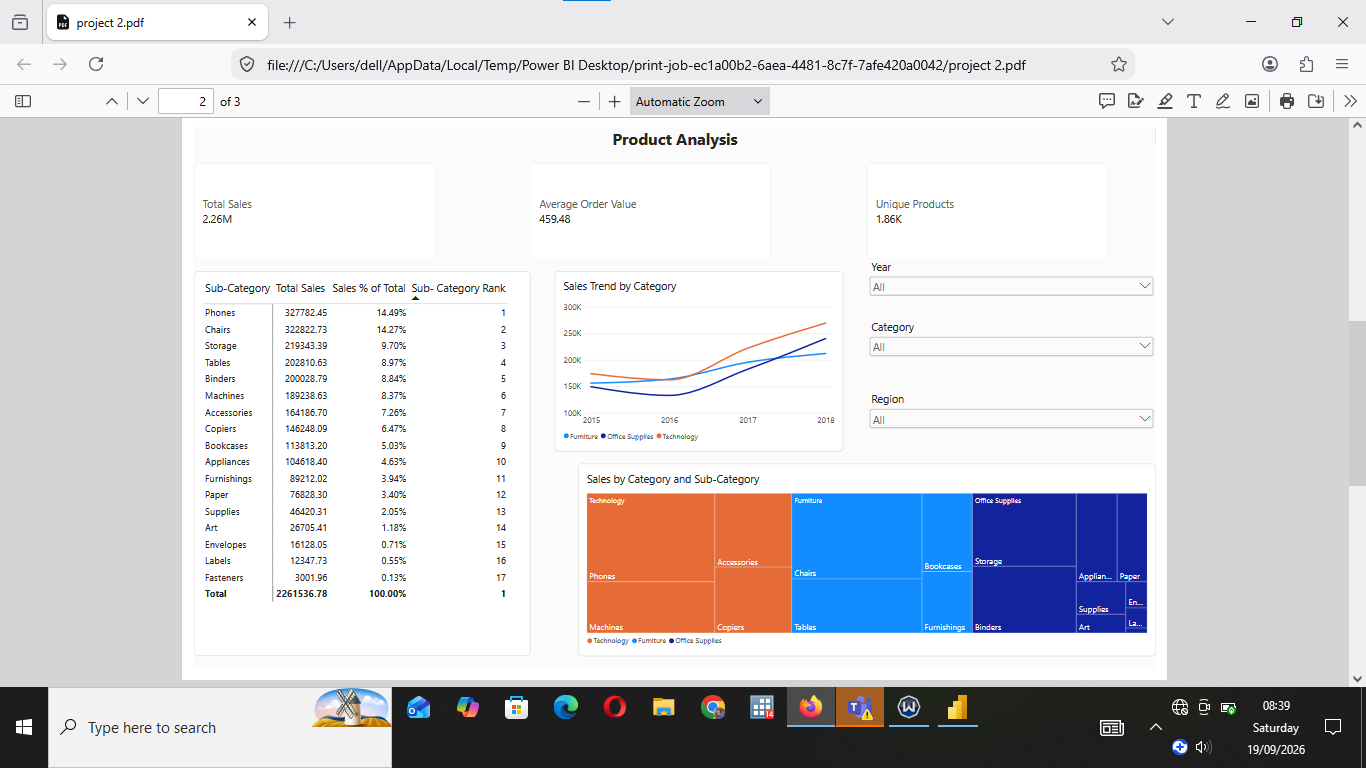

This screenshot's page, from the dashboard's own definition file:
{"tool":"powerbi","page":{"name":"Page 2","canvas":[1920,1080],"ordinal":1},"visuals":[{"type":"cardVisual","fields":{"Data":["cleaned_retail_sales.Average order value"]},"box":[672,72,480,192],"z":0},{"type":"cardVisual","fields":{"Data":["cleaned_retail_sales.Unique Product"]},"box":[1344,72,480,192],"z":2},{"type":"pivotTable","fields":{"Rows":["cleaned_retail_sales.Sub-Category"],"Values":["cleaned_retail_sales.Total sales","cleaned_retail_sales.Sales % of Total","cleaned_retail_sales.Sub- Category Rank"]},"box":[0,288,672,768],"z":4},{"type":"cardVisual","fields":{"Data":["cleaned_retail_sales.Total sales"]},"box":[0,72.3,480,192],"z":7},{"type":"treemap","title":"Sales by Category and Sub-Category","fields":{"Details":["cleaned_retail_sales.Sub-Category"],"Group":["cleaned_retail_sales.Category"],"Values":["cleaned_retail_sales.Total sales"]},"box":[767.5,671.8,1152.3,384.8],"z":8},{"type":"lineChart","title":"Sales Trend by Category","fields":{"Category":["Date Table.Date.Variation.Date Hierarchy.Year","Date Table.Date.Variation.Date Hierarchy.Quarter","Date Table.Date.Variation.Date Hierarchy.Month","Date Table.Date.Variation.Date Hierarchy.Day"],"Series":["cleaned_retail_sales.Category"],"Y":["cleaned_retail_sales.Total sales"]},"box":[720,288,576,360],"z":9},{"type":"slicer","fields":{"Values":["Date Table.Year"]},"box":[1344,264,576,96],"z":10},{"type":"slicer","fields":{"Values":["cleaned_retail_sales.Category"]},"box":[1344,384,576,96],"z":11},{"type":"slicer","fields":{"Values":["cleaned_retail_sales.Region"]},"box":[1344,528,576,96],"z":12},{"type":"textbox","box":[96,0,1728,72],"z":13}]}

Visuals, with their boxes on the page's 1920x1080 design canvas (x1, y1, x2, y2). These are canvas units, not pixel positions in the 1366x768 screenshot, which may show the page scaled, cropped or inside an application window:
cardVisual - cleaned_retail_sales.Average order value: select_region(672, 72, 1152, 264)
cardVisual - cleaned_retail_sales.Unique Product: select_region(1344, 72, 1824, 264)
pivotTable - cleaned_retail_sales.Sub-Category x cleaned_retail_sales.Total sales: select_region(0, 288, 672, 1056)
cardVisual - cleaned_retail_sales.Total sales: select_region(0, 72, 480, 264)
"Sales by Category and Sub-Category" treemap: select_region(768, 672, 1920, 1057)
"Sales Trend by Category" lineChart: select_region(720, 288, 1296, 648)
slicer - Date Table.Year: select_region(1344, 264, 1920, 360)
slicer - cleaned_retail_sales.Category: select_region(1344, 384, 1920, 480)
slicer - cleaned_retail_sales.Region: select_region(1344, 528, 1920, 624)
textbox: select_region(96, 0, 1824, 72)
